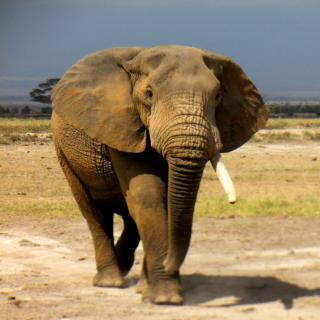Elephant: (46, 41, 268, 304)
